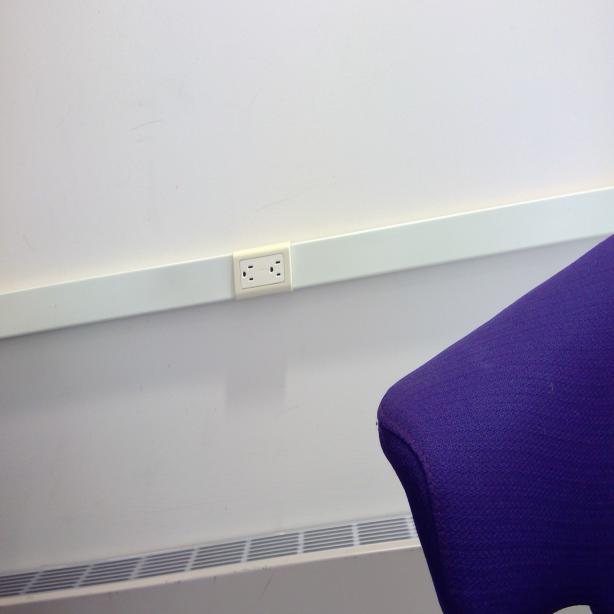typeb: (239, 260, 257, 289), (266, 256, 284, 283)
